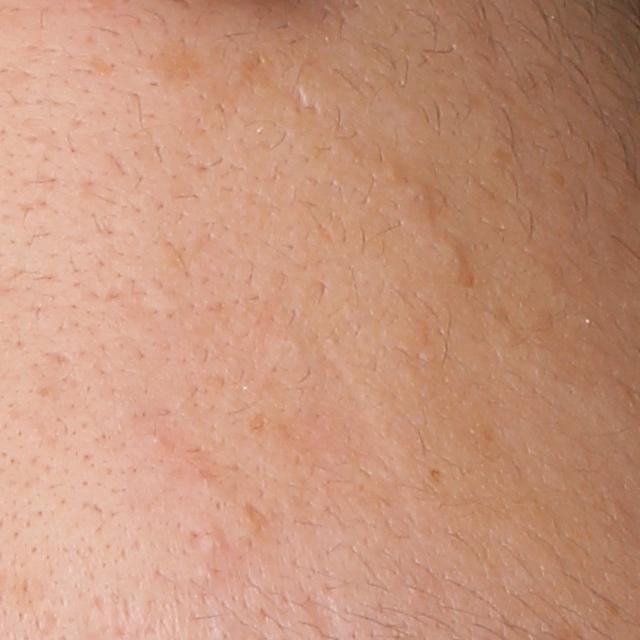comedo: (435, 238, 465, 272), (406, 182, 434, 214)
